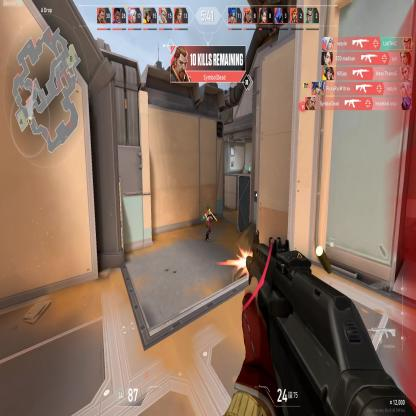enemy: (203, 207, 213, 243)
